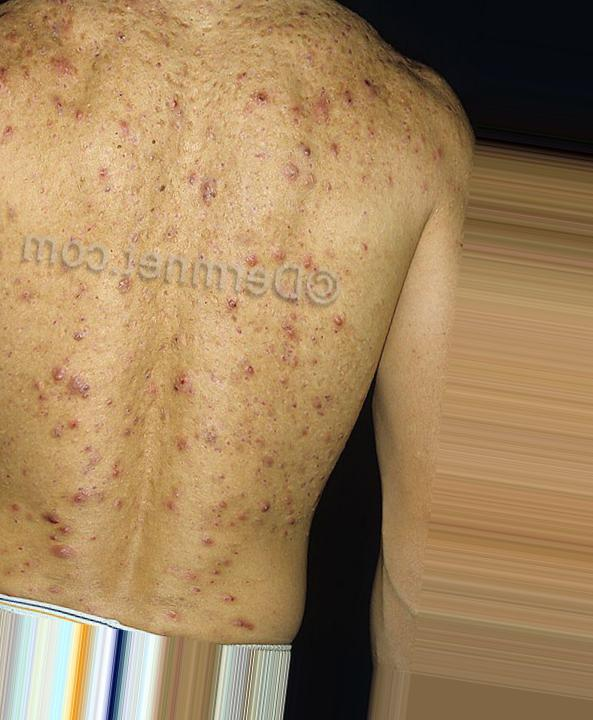Acne: (11, 15, 225, 272), (219, 15, 424, 260), (195, 267, 329, 616), (31, 285, 184, 582)
